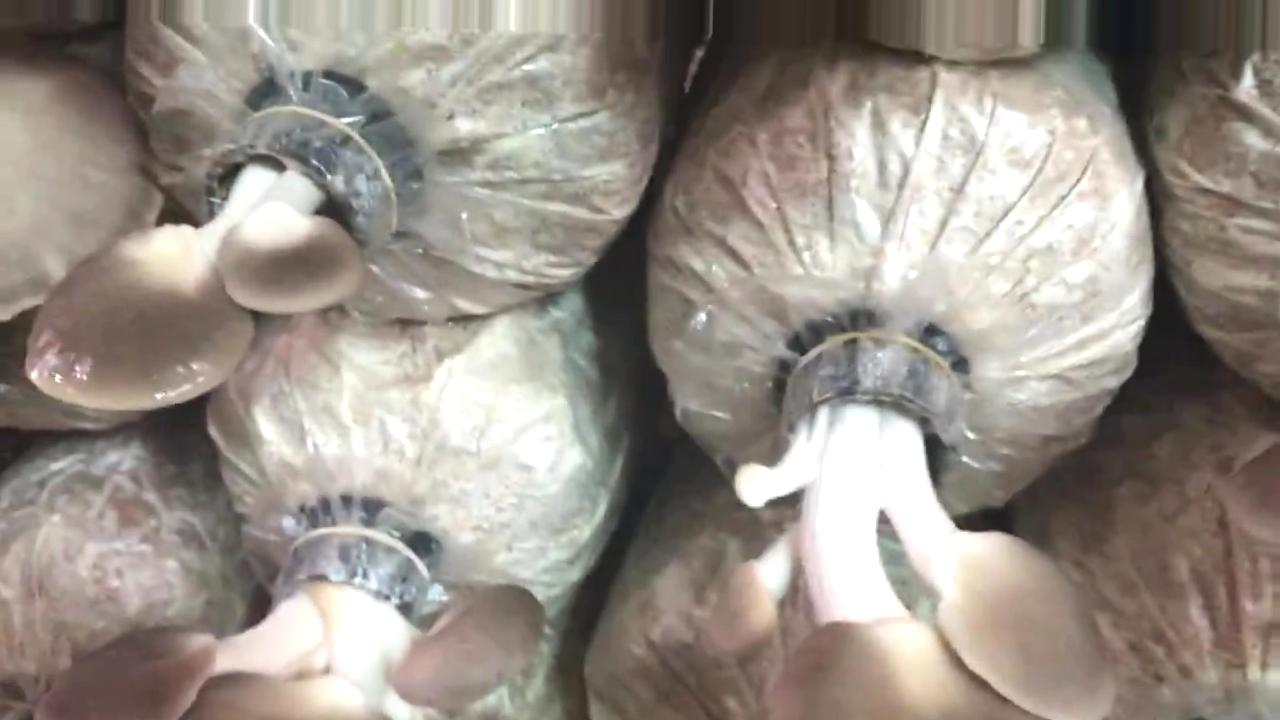nam: (707, 331, 1117, 720), (21, 87, 410, 413), (34, 520, 552, 720)
